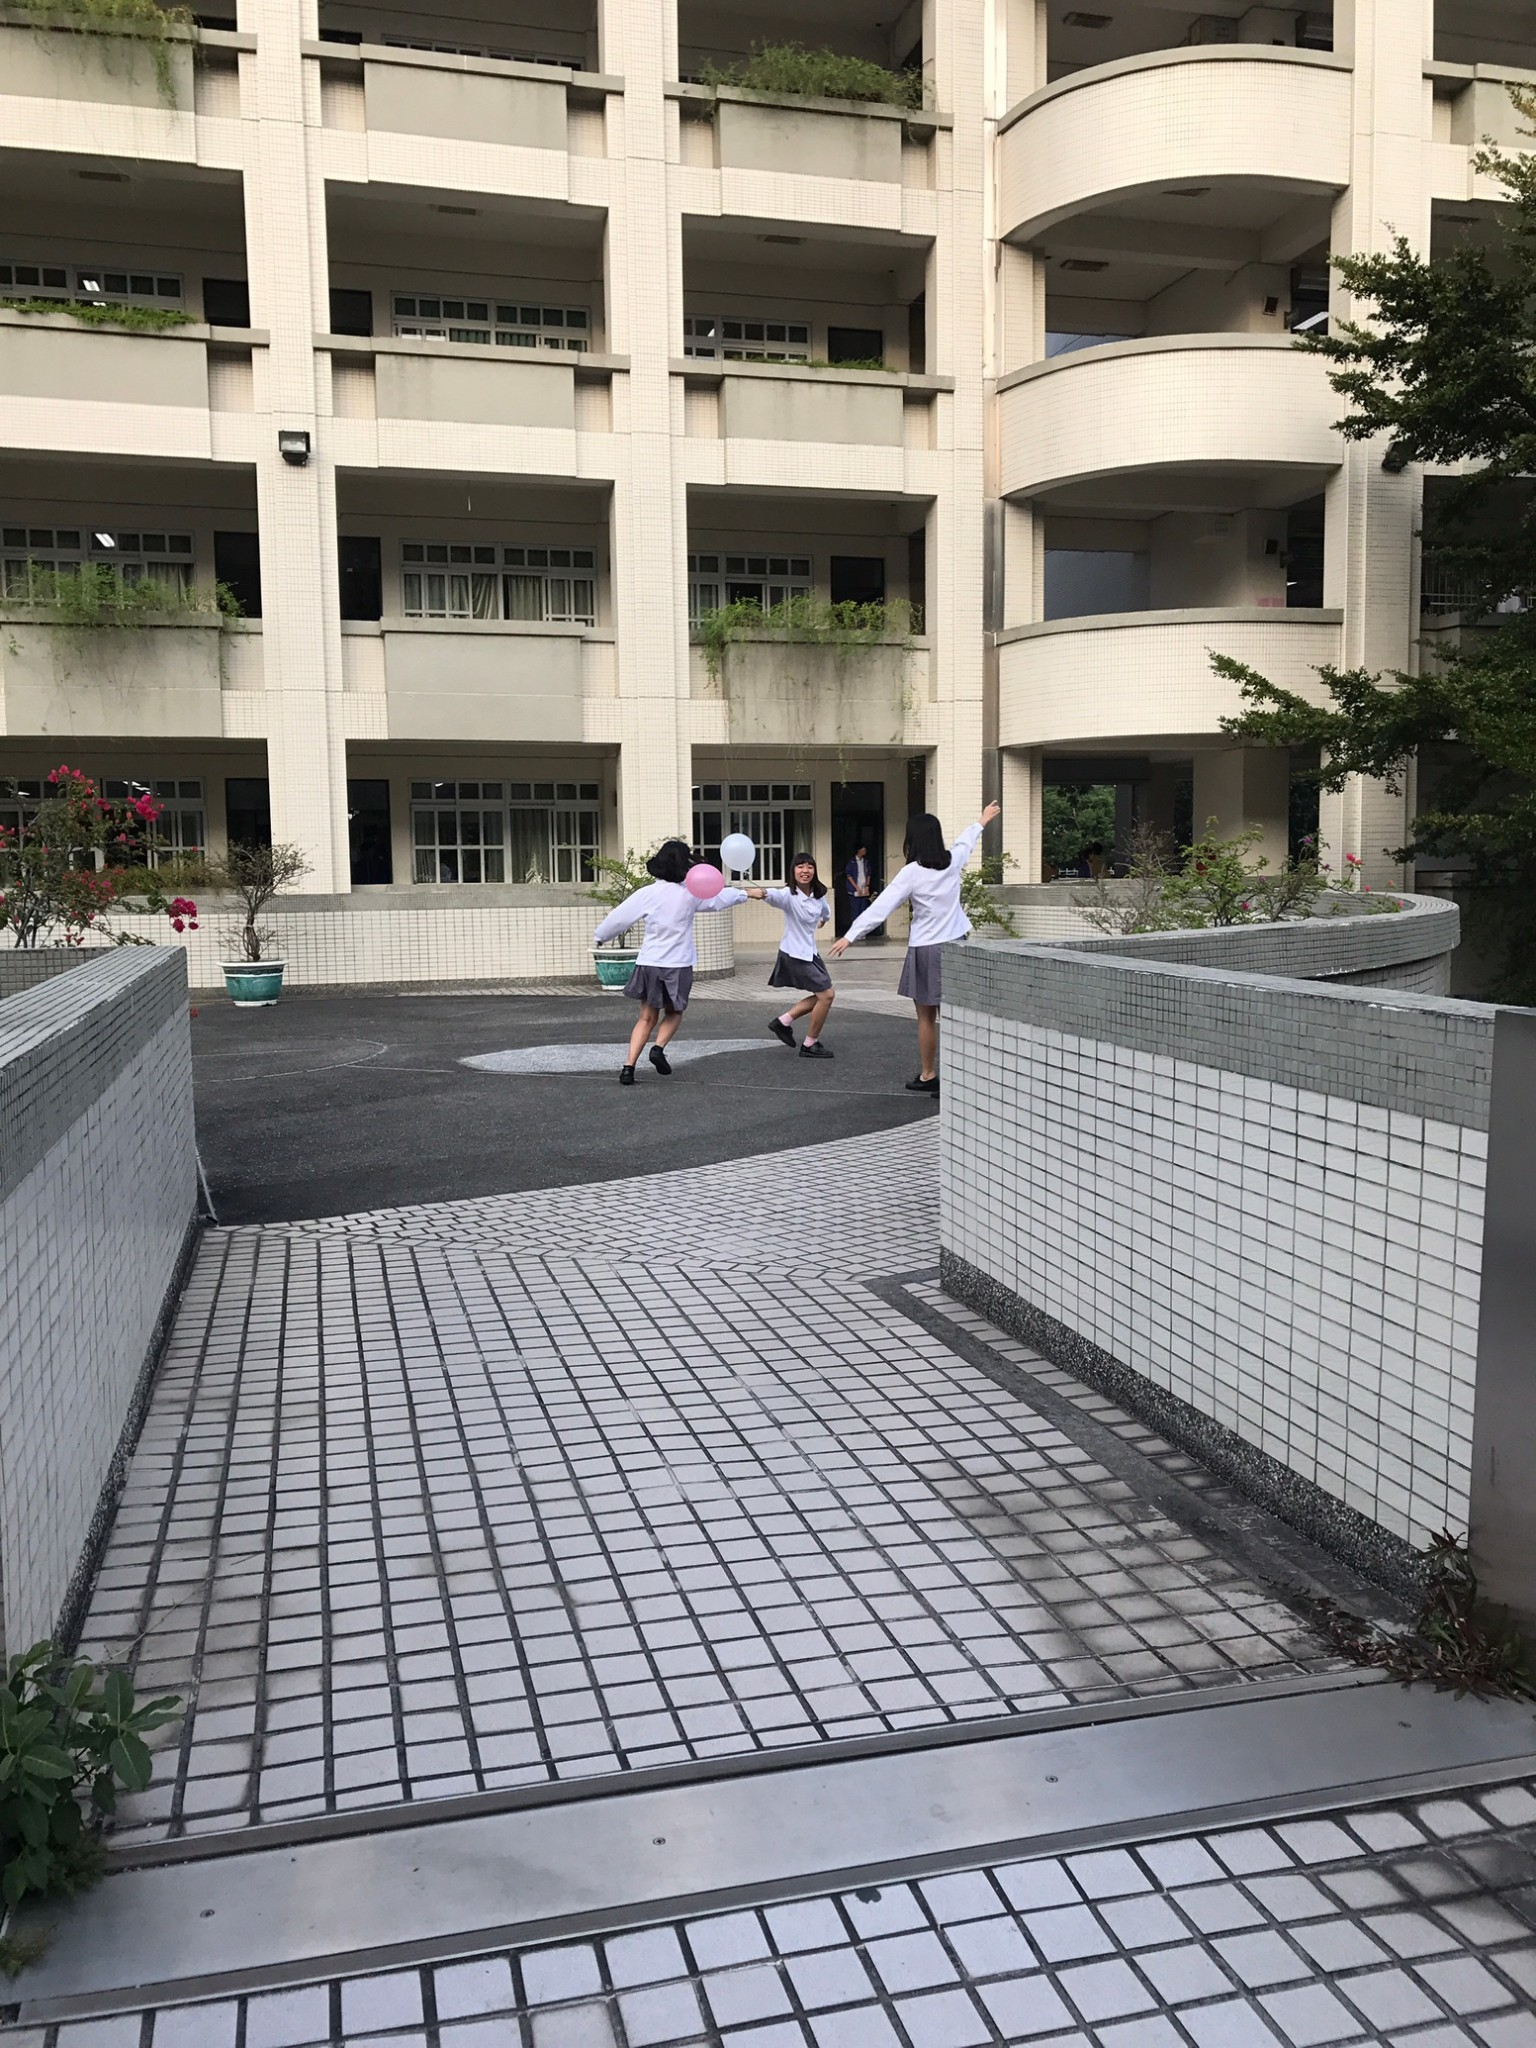people: (876, 799, 982, 1093), (608, 838, 692, 1083), (786, 851, 847, 1073), (837, 822, 876, 912)
